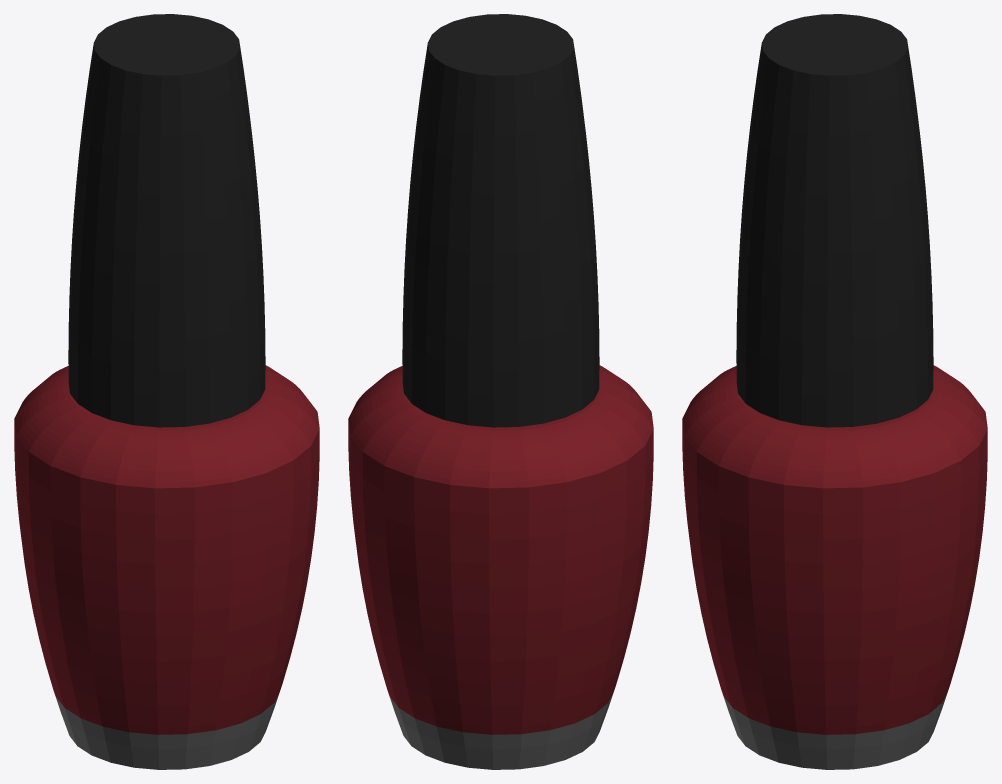
The picture shows the model from 3 angles, left to right: view 1: azimuth 30°, elevation 25°; view 2: azimuth 150°, elevation 25°; view 3: azimuth 270°, elevation 25°; orthographic projection.
Parts seen in each view (by area): view 1: mesh4_mesh4-geometry, mesh3_mesh3-geometry; view 2: mesh4_mesh4-geometry, mesh3_mesh3-geometry; view 3: mesh4_mesh4-geometry, mesh3_mesh3-geometry.
Part boxes in pixels (box(x1,y1,x2,y2)): mesh4_mesh4-geometry: box(14, 365, 319, 769); mesh3_mesh3-geometry: box(68, 14, 265, 427); mesh4_mesh4-geometry: box(348, 365, 653, 769); mesh3_mesh3-geometry: box(402, 14, 599, 427); mesh4_mesh4-geometry: box(682, 365, 987, 769); mesh3_mesh3-geometry: box(736, 14, 933, 427).
Size of the model in its own units: 0.3516 by 0.8676 by 0.3516.
